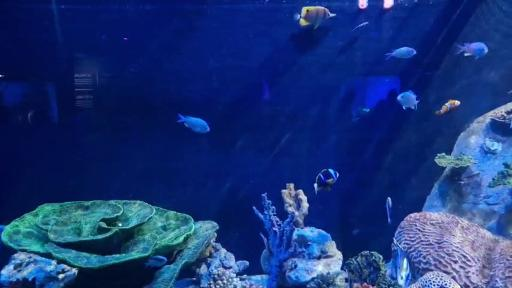Fish: (392, 238, 410, 287), (295, 7, 336, 28), (178, 114, 209, 133), (314, 169, 338, 193), (456, 42, 488, 58), (397, 91, 419, 109), (386, 47, 416, 59), (436, 100, 460, 114), (386, 197, 392, 224)
